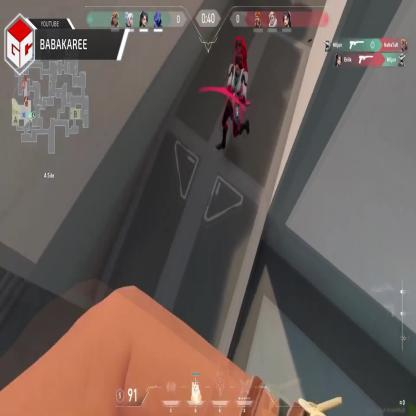enemy: (215, 36, 250, 154)
enemy_head: (234, 43, 245, 76)
